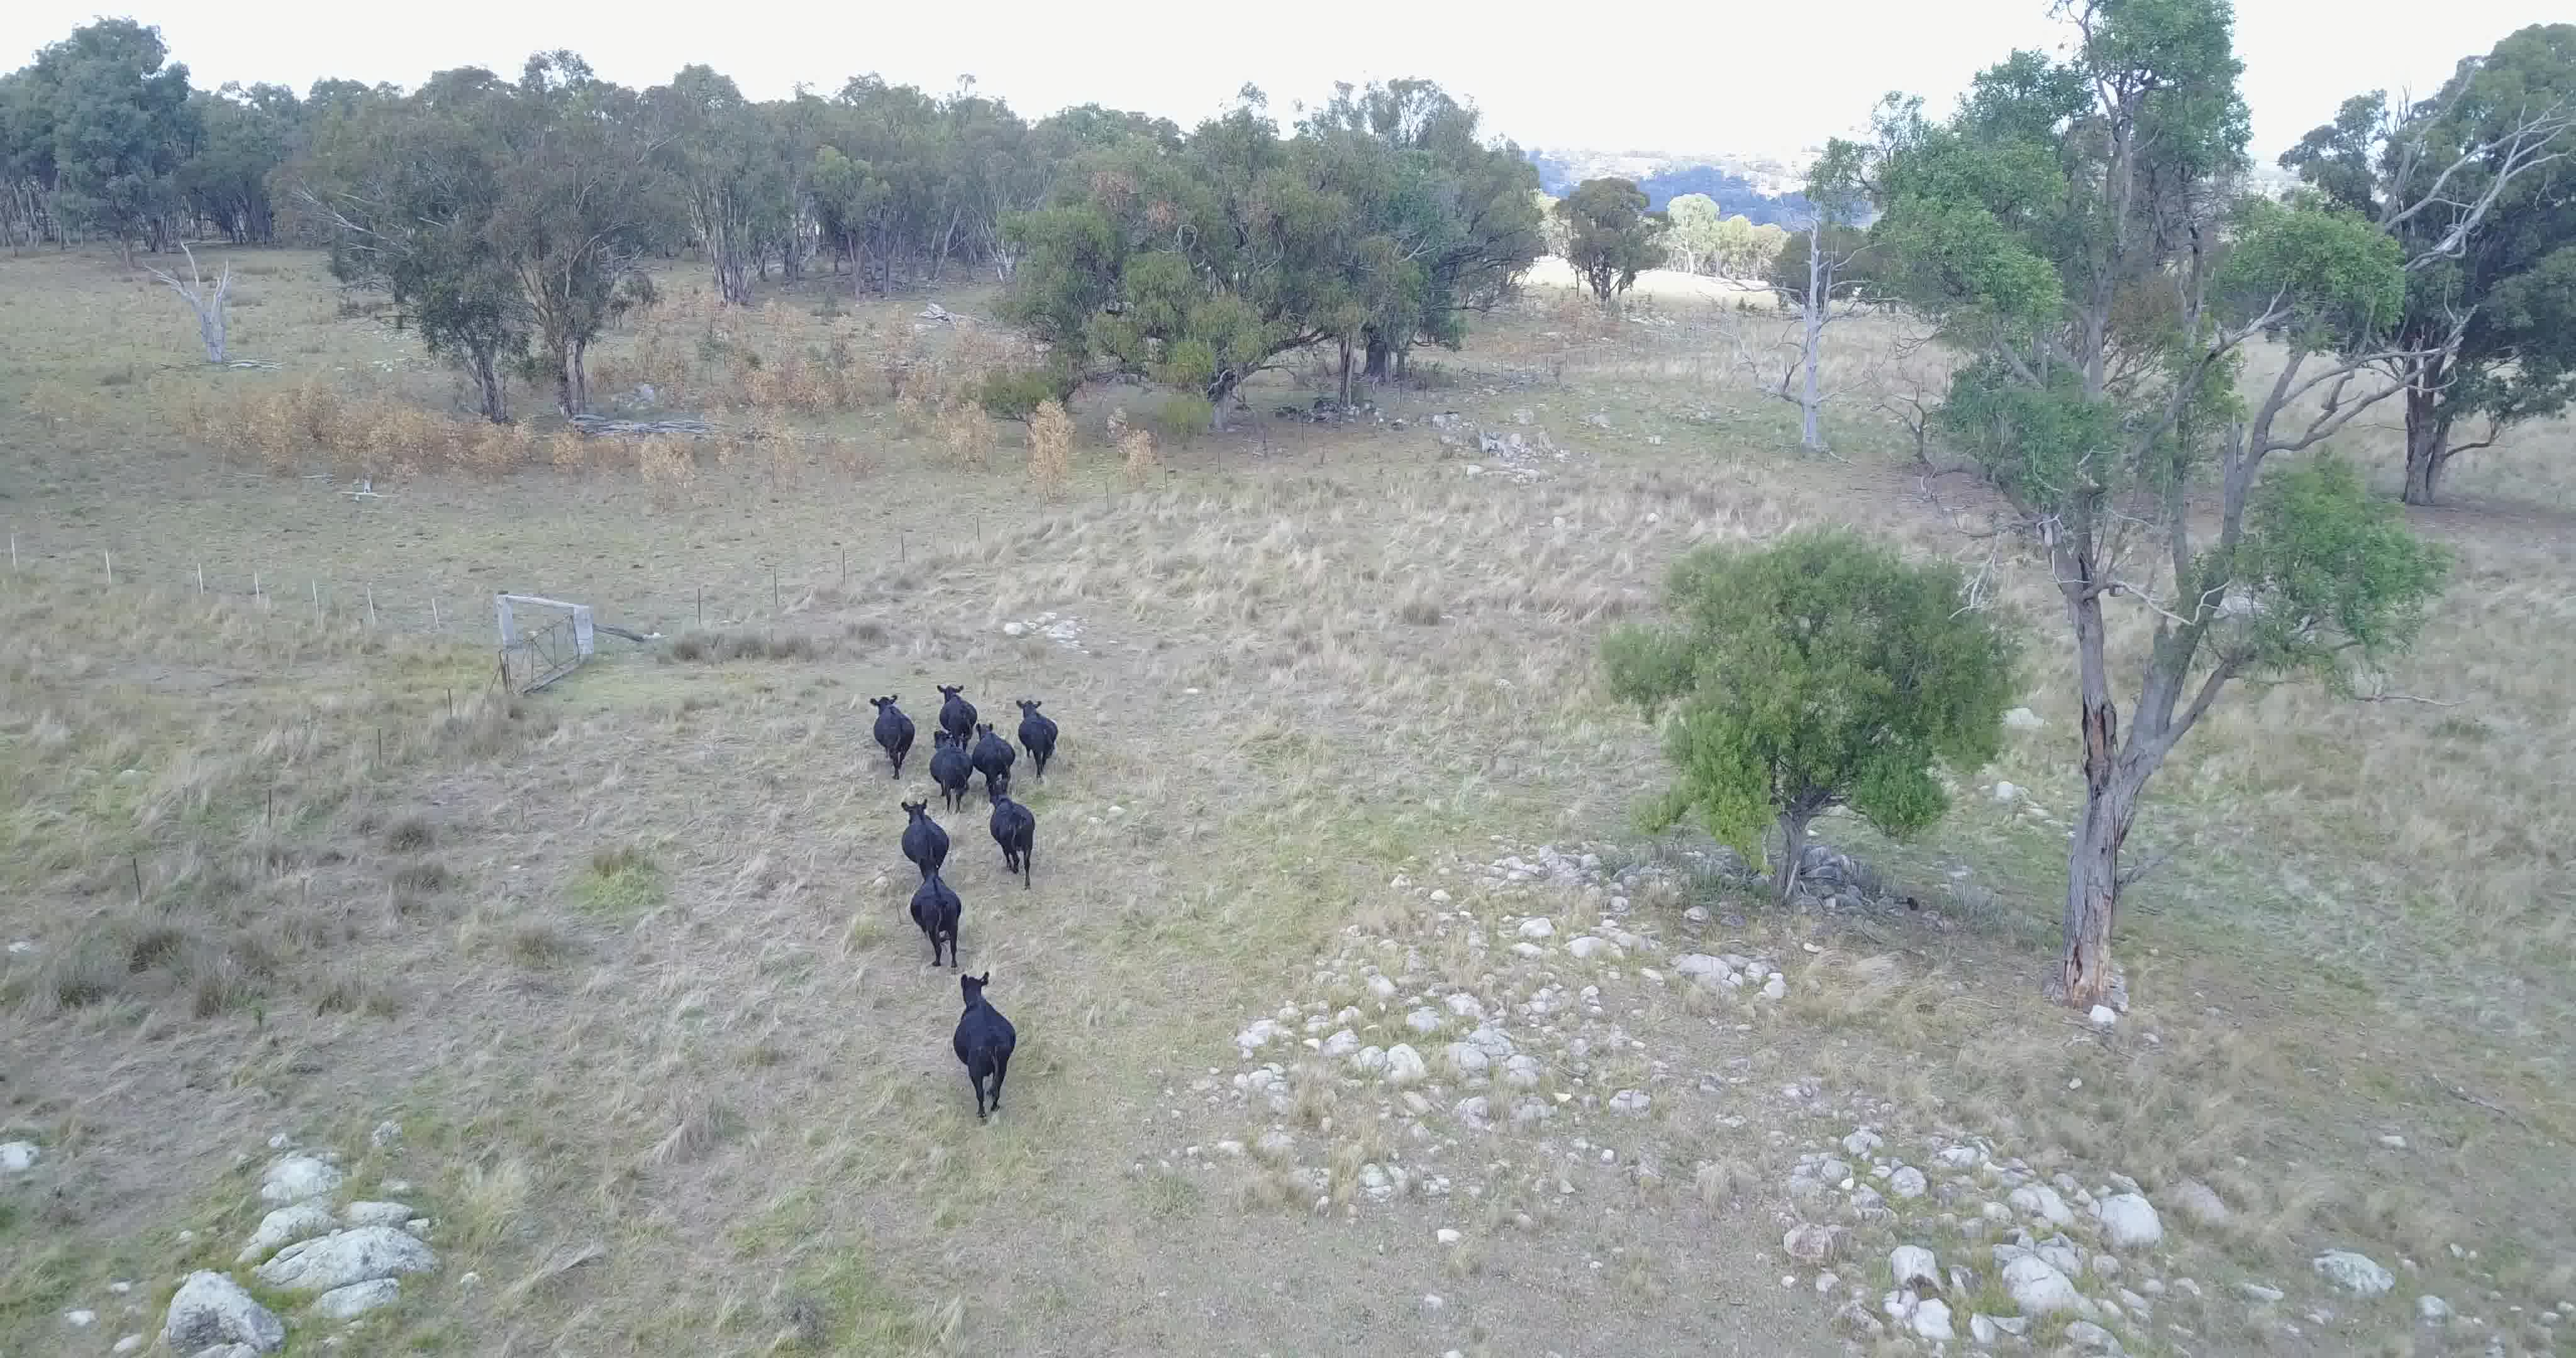cattle: (949, 971, 1026, 1130), (906, 857, 966, 971), (981, 785, 1041, 891), (860, 690, 918, 782), (896, 797, 951, 883), (927, 728, 975, 813), (1015, 695, 1061, 780), (969, 722, 1015, 796), (935, 678, 980, 743)
